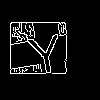Y: (25, 25, 66, 75)
